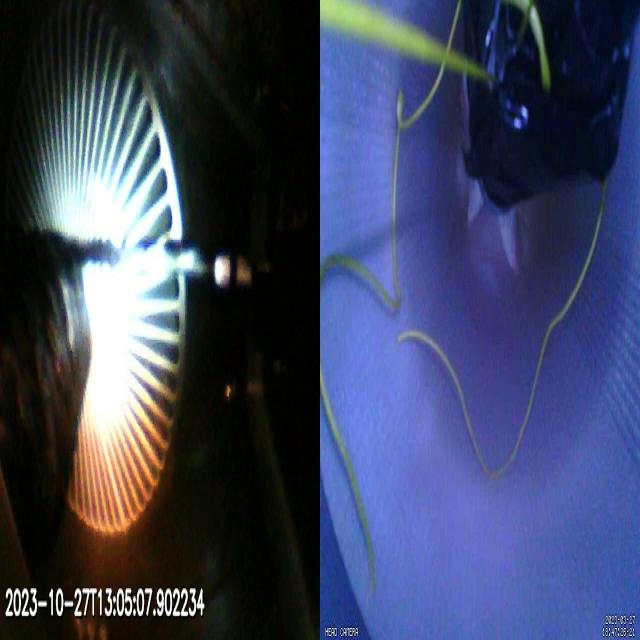white-dots: (214, 250, 272, 293)
